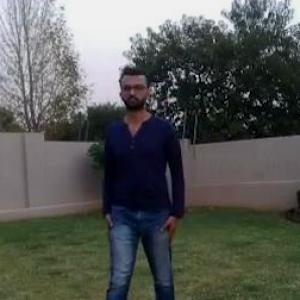follow: (99, 78, 171, 298)
